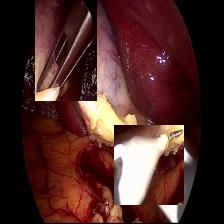Grasper: (36, 0, 98, 101)
Hook: (114, 125, 184, 205)
